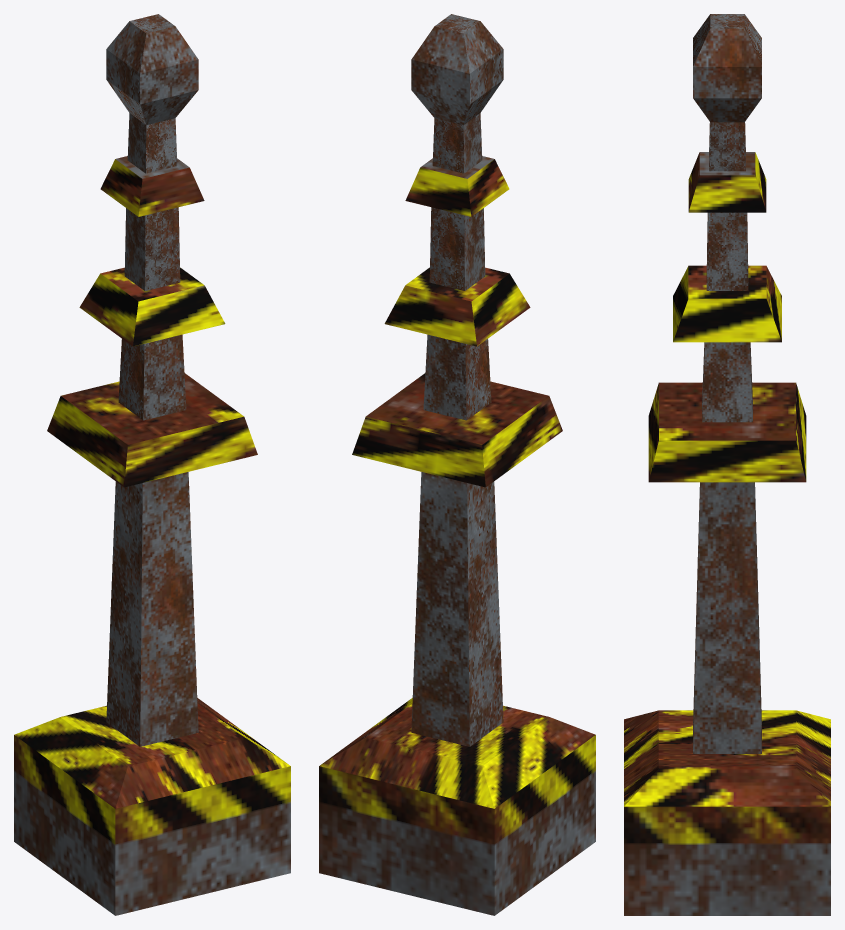
File: tesla_coil.fbx
3 renders of one model, left to right at view 1: azimuth 30°, elevation 25°; view 2: azimuth 150°, elevation 25°; view 3: azimuth 270°, elevation 25°, orthographic. The views are drawn at different scales.
Visible parts, largest first — view 1: Tesla Coil; view 2: Tesla Coil; view 3: Tesla Coil.
Boxes of the visible parts, x1,y1,x2,y2 form: Tesla Coil: (14, 14, 290, 915); Tesla Coil: (319, 14, 595, 915); Tesla Coil: (624, 14, 830, 915).
Bounding box in the file's own units: 150 × 681 × 150.
